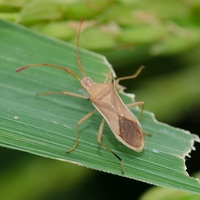insect: (16, 18, 150, 174)
